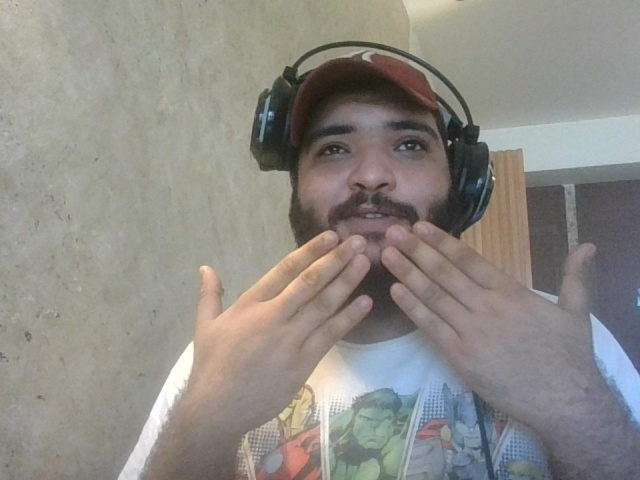thanks: (191, 225, 598, 408)
